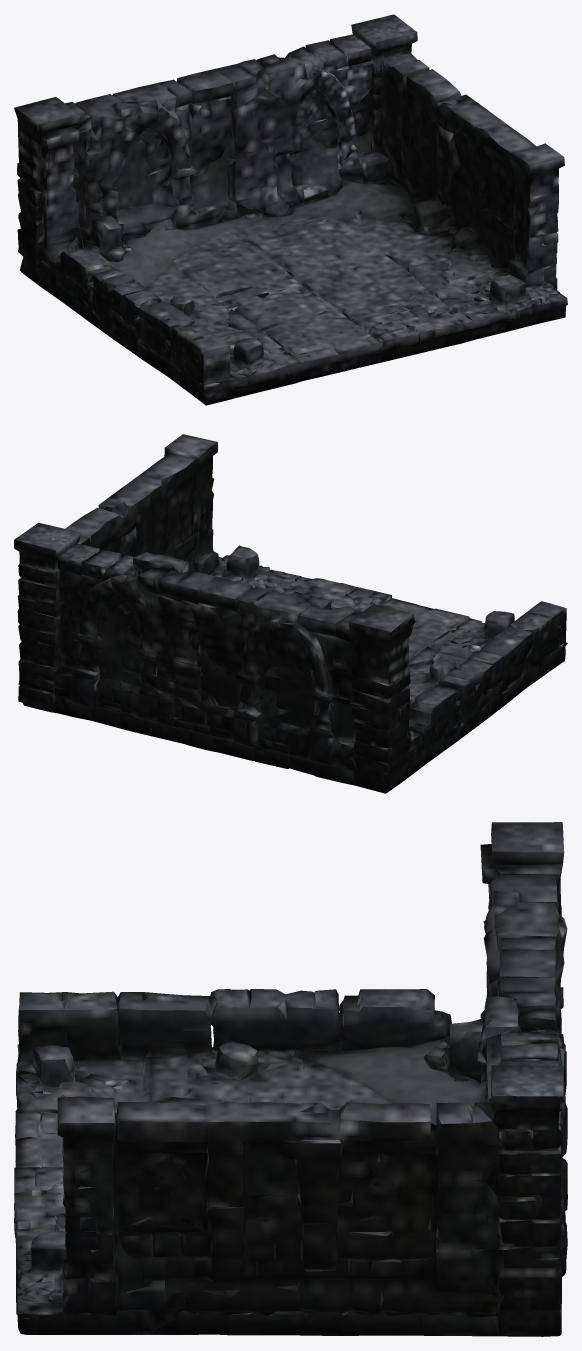
The model's file is tile.corner.2.glb.
3 renders of one model, top to bottom at view 1: azimuth 30°, elevation 25°; view 2: azimuth 150°, elevation 25°; view 3: azimuth 270°, elevation 25°, orthographic. The views are drawn at different scales.
Visible parts, largest first — view 1: tripo_part_0, tripo_part_3, tripo_part_1, tripo_part_6, tripo_part_15, tripo_part_10, tripo_part_4, tripo_part_13, tripo_part_5, tripo_part_8, tripo_part_7, tripo_part_9 (+3 smaller); view 2: tripo_part_2, tripo_part_3, tripo_part_6, tripo_part_0, tripo_part_1, tripo_part_7, tripo_part_11, tripo_part_15, tripo_part_5, tripo_part_4, tripo_part_8, tripo_part_9 (+4 smaller); view 3: tripo_part_1, tripo_part_0, tripo_part_7, tripo_part_5, tripo_part_4, tripo_part_3, tripo_part_8, tripo_part_9, tripo_part_14, tripo_part_6, tripo_part_15, tripo_part_17 (+4 smaller).
Boxes of the visible parts, box(x1,y1,x2,y2) form: tripo_part_0: box(108, 180, 567, 397); tripo_part_3: box(65, 54, 280, 243); tripo_part_1: box(382, 53, 536, 270); tripo_part_6: box(14, 97, 188, 392); tripo_part_15: box(288, 34, 388, 205); tripo_part_10: box(229, 55, 319, 215); tripo_part_4: box(508, 143, 564, 289); tripo_part_13: box(89, 100, 178, 218); tripo_part_5: box(91, 269, 194, 356); tripo_part_8: box(171, 322, 238, 405); tripo_part_7: box(351, 14, 417, 163); tripo_part_9: box(55, 247, 114, 311); tripo_part_2: box(54, 566, 341, 765); tripo_part_3: box(137, 567, 362, 771); tripo_part_6: box(348, 604, 546, 793); tripo_part_0: box(196, 545, 514, 704); tripo_part_1: box(65, 453, 196, 571); tripo_part_7: box(14, 522, 80, 709); tripo_part_11: box(23, 697, 354, 785); tripo_part_15: box(57, 543, 140, 668); tripo_part_5: box(438, 626, 533, 725); tripo_part_4: box(164, 434, 218, 574); tripo_part_8: box(510, 601, 567, 678); tripo_part_9: box(409, 685, 460, 751); tripo_part_1: box(113, 1101, 501, 1331); tripo_part_0: box(14, 1038, 486, 1336); tripo_part_7: box(475, 1065, 564, 1335); tripo_part_5: box(117, 989, 341, 1060); tripo_part_4: box(57, 1096, 117, 1315); tripo_part_3: box(481, 864, 567, 1082); tripo_part_8: box(16, 991, 120, 1075); tripo_part_9: box(338, 989, 451, 1050); tripo_part_14: box(282, 1140, 342, 1271); tripo_part_6: box(212, 822, 564, 1082); tripo_part_15: box(485, 1032, 564, 1233); tripo_part_17: box(423, 1018, 483, 1076).
Size of the model in its own units: 0.9771 by 0.4084 by 0.8318.
1 material, 1 textured.
